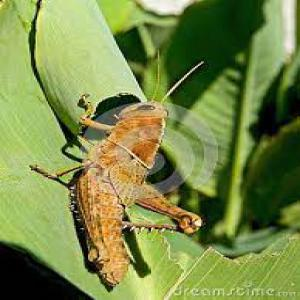locust: (43, 27, 227, 269)
